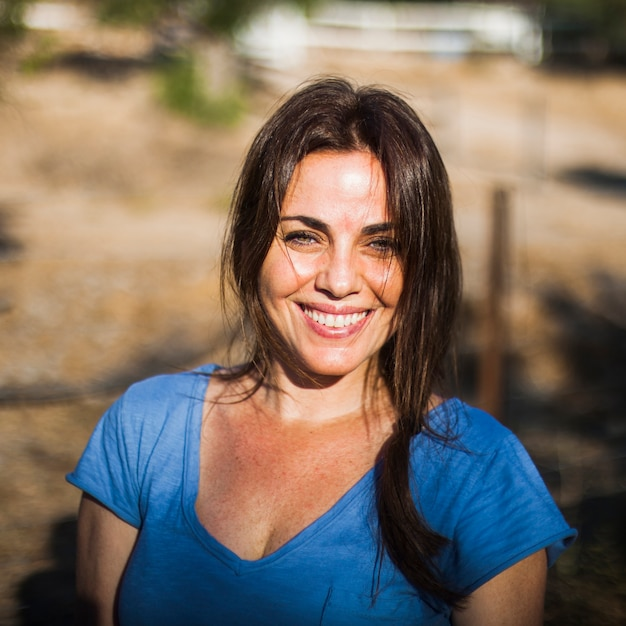young: (226, 80, 465, 378)
